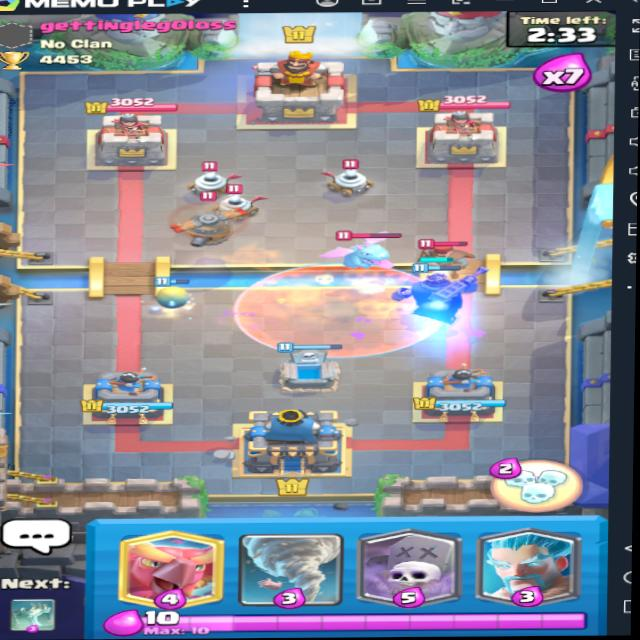baby-dragon: (325, 230, 411, 269)
flying-machine: (152, 192, 259, 251)
hunter: (409, 236, 481, 282)
zappie: (318, 156, 370, 194), (218, 182, 271, 216), (184, 163, 233, 197)
